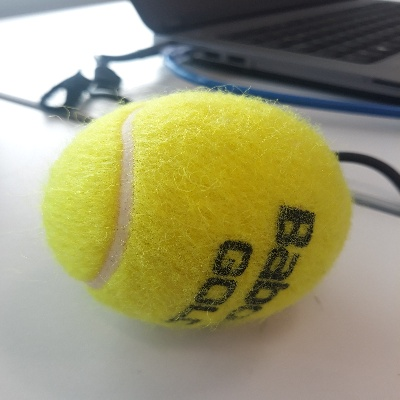Ball: (41, 87, 351, 330)
